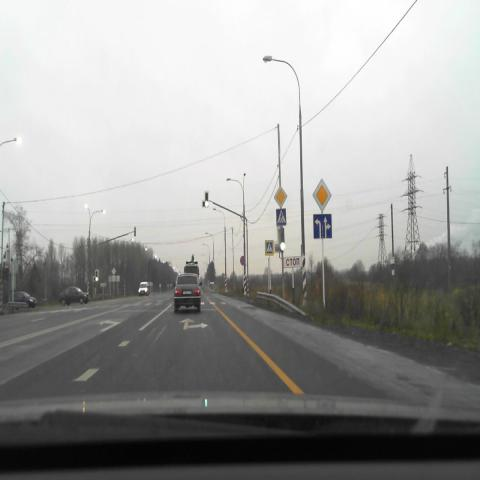2_1: (312, 177, 331, 212), (274, 185, 287, 208)
5_15_2_2: (313, 214, 332, 239)
5_19_1: (276, 209, 286, 225), (264, 240, 274, 256)
6_16: (283, 257, 302, 267)
